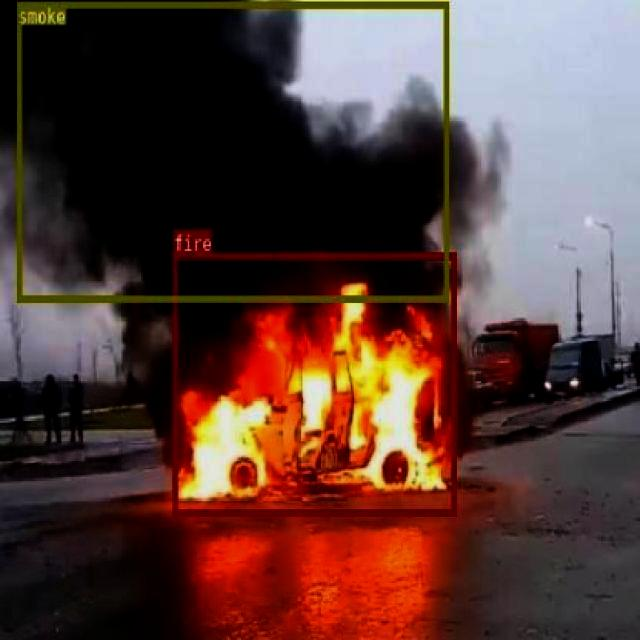fire: (172, 252, 456, 514)
smoke: (16, 1, 449, 301)
